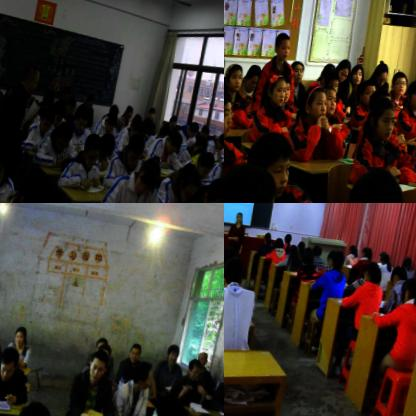head: (246, 128, 301, 196), (343, 162, 411, 203), (224, 163, 286, 203), (9, 167, 59, 203), (174, 158, 204, 203), (369, 98, 399, 140), (135, 156, 163, 199), (80, 128, 105, 170), (303, 86, 333, 121), (10, 396, 57, 416), (123, 133, 147, 171), (196, 171, 224, 203), (129, 358, 155, 392), (224, 87, 240, 141), (317, 83, 341, 118), (266, 72, 289, 108), (0, 347, 21, 386), (224, 256, 247, 290), (86, 351, 110, 383), (224, 59, 244, 94), (21, 61, 41, 95), (96, 128, 116, 162), (52, 119, 73, 151), (276, 72, 295, 104), (0, 135, 12, 185), (273, 31, 293, 60), (38, 101, 56, 133), (244, 64, 264, 92), (73, 104, 91, 134), (359, 80, 378, 108), (197, 150, 215, 179), (165, 130, 183, 158), (334, 59, 353, 85), (372, 62, 391, 88), (389, 72, 409, 96), (363, 259, 382, 282), (290, 60, 308, 84), (323, 72, 341, 96), (321, 62, 339, 86), (401, 275, 416, 303), (224, 245, 240, 271), (391, 262, 409, 285), (186, 359, 204, 380), (127, 342, 143, 364), (12, 326, 28, 348), (192, 133, 207, 156), (129, 118, 145, 139), (96, 342, 114, 360), (26, 100, 40, 123), (350, 64, 366, 84), (166, 346, 181, 367), (406, 79, 416, 109), (330, 250, 345, 270), (52, 105, 66, 126), (60, 82, 74, 103), (186, 118, 200, 139), (104, 113, 119, 132), (93, 334, 108, 353), (157, 122, 171, 142), (198, 120, 212, 139), (44, 84, 56, 105), (197, 350, 211, 367), (302, 246, 316, 262), (84, 93, 97, 110), (214, 128, 224, 150), (65, 96, 77, 114), (108, 102, 121, 118), (167, 115, 179, 132), (326, 249, 338, 266), (348, 242, 360, 258), (124, 103, 135, 120), (362, 244, 374, 258), (288, 242, 299, 256), (296, 238, 307, 252), (148, 104, 158, 119), (312, 242, 323, 255), (133, 110, 143, 124), (380, 252, 391, 264), (403, 256, 414, 268), (224, 50, 228, 80), (274, 236, 284, 247), (6, 84, 14, 96), (235, 210, 243, 222), (264, 230, 272, 242), (284, 233, 293, 243)
